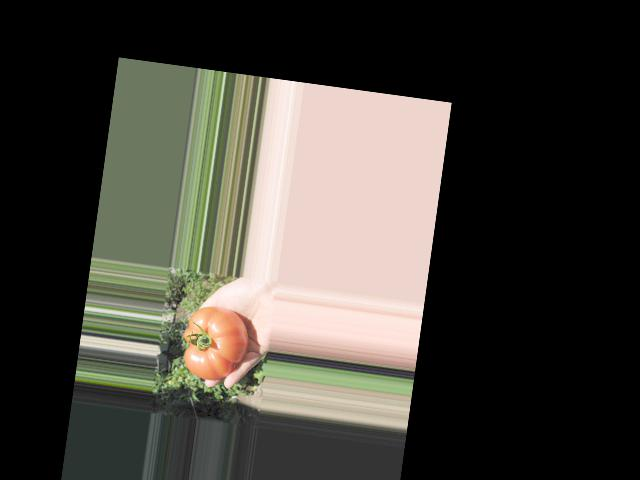tomato: (178, 303, 251, 384)
